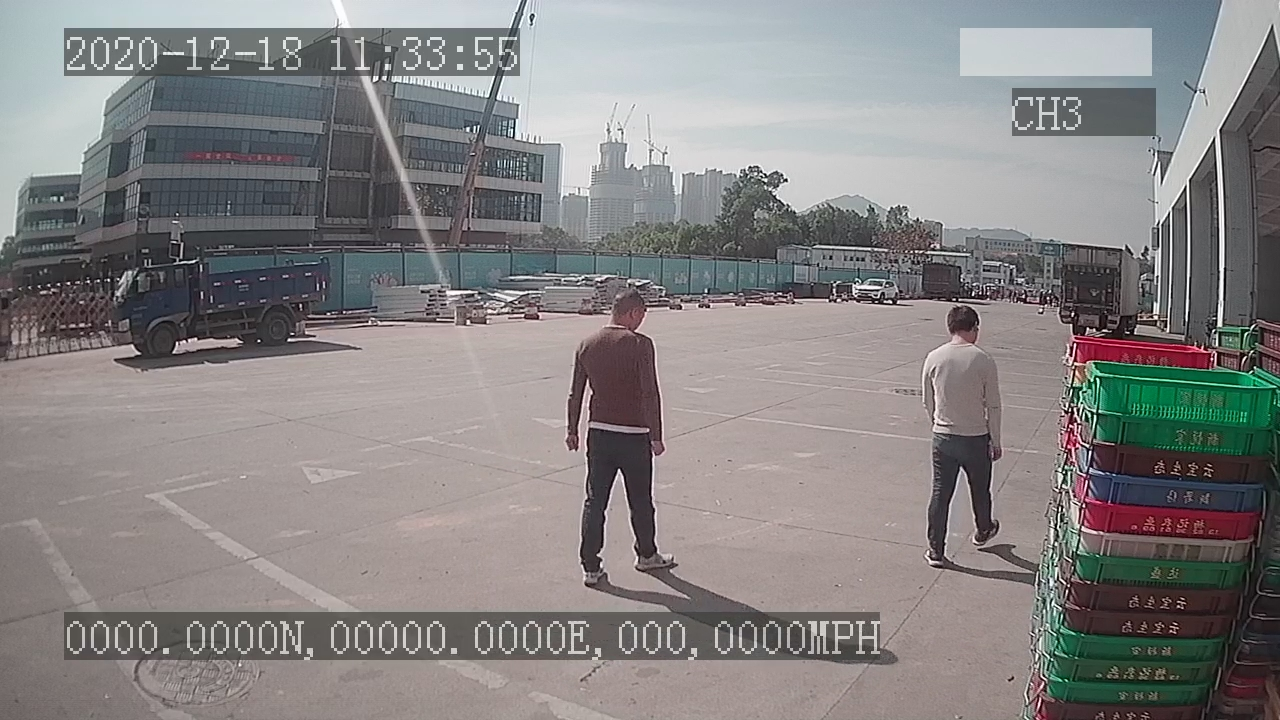person: (564, 288, 681, 587), (916, 304, 1008, 567)
